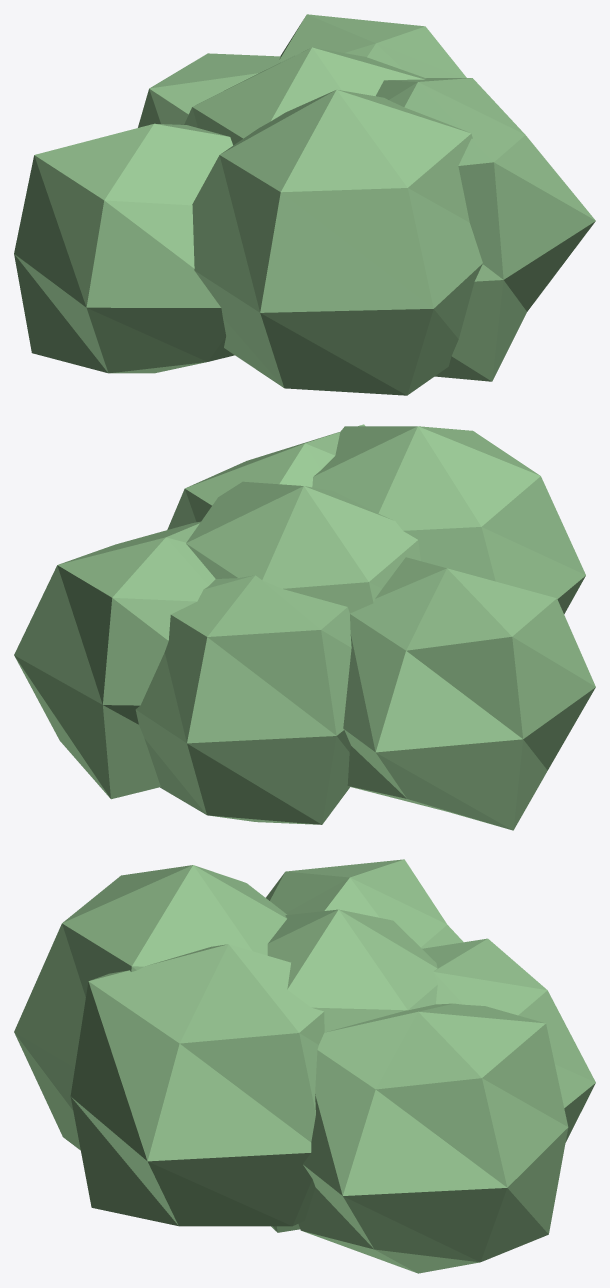
File: nature_bush_flat.glb
3 views of the same model, one above another, from view 1: azimuth 30°, elevation 25°; view 2: azimuth 150°, elevation 25°; view 3: azimuth 270°, elevation 25° (orthographic). The views are drawn at different scales.
Visible parts, largest first — view 1: world; view 2: world; view 3: world.
Part boxes in pixels (left/top/right/bottom): world: left=14, top=14, right=595, bottom=395; world: left=14, top=424, right=595, bottom=830; world: left=14, top=859, right=595, bottom=1273.
Size of the model in its own units: 2 by 1.29 by 1.99.
